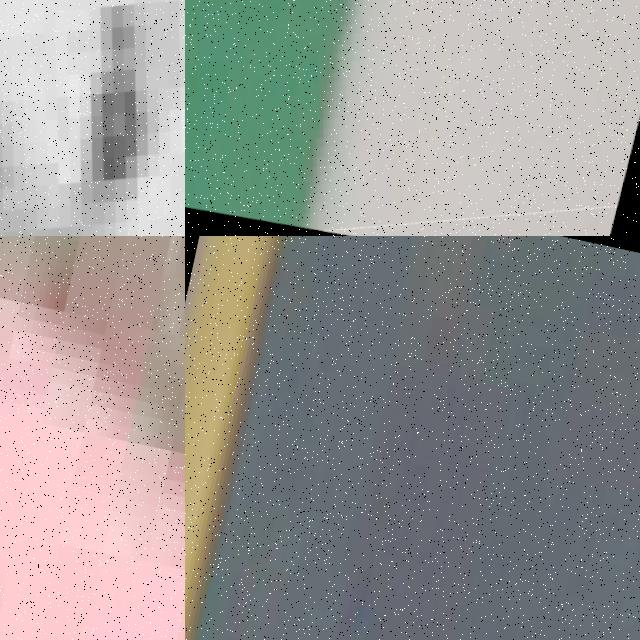0: (0, 0, 185, 236)
drone: (185, 0, 640, 236)
